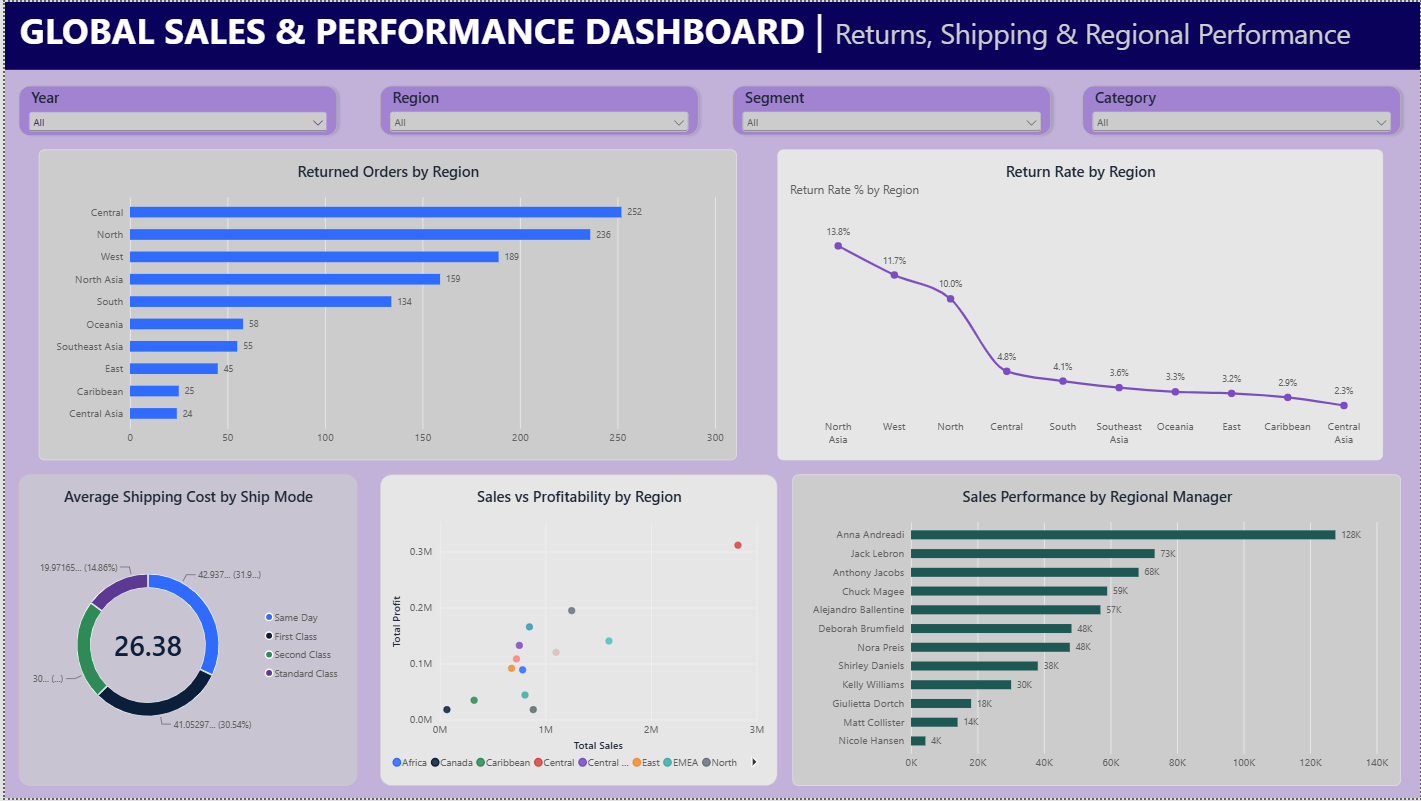

The dashboard page shown, as its layout file describes it:
{"tool":"powerbi","page":{"name":"Returns, Shipping & Regional Performance","canvas":[1920,1080],"ordinal":3},"visuals":[{"type":"textbox","box":[0,0,1920,92.4],"z":4000},{"type":"slicer","fields":{"Values":["DateTable.Year"]},"box":[18.5,113.2,432.2,67.9],"z":5000},{"type":"slicer","fields":{"Values":["Orders.Category"]},"box":[1462.2,113.9,432,67],"z":6000},{"type":"slicer","fields":{"Values":["Orders.Region"]},"box":[509.3,113.4,432,67],"z":7000},{"type":"slicer","fields":{"Values":["Orders.Segment"]},"box":[987.2,113.4,432,67],"z":8000},{"type":"scatterChart","title":"Sales vs Profitability by Region","fields":{"Series":["Orders.Region"],"X":["Measures (2).Total Sales"],"Y":["Measures (2).Total Profit"]},"box":[509.2,641.5,539.3,422.1],"z":9000},{"type":"lineChart","title":"Return Rate by Region","fields":{"Category":["Orders.Region"],"Y":["Measures (2).Return Rate %"]},"box":[1048.5,199.3,821.3,422],"z":10000},{"type":"donutChart","title":"Average Shipping Cost by Ship Mode","fields":{"Category":["Orders.Ship Mode"],"Y":["Measures (2).Average Shipping Cost"]},"box":[18.4,641.5,458.9,422.1],"z":11000},{"type":"clusteredBarChart","title":"Sales Performance by Regional Manager","fields":{"Category":["People.Person"],"Y":["Measures (2).Total Sales"]},"box":[1068.6,641.5,825.7,422.1],"z":12000},{"type":"clusteredBarChart","title":"Returned Orders by Region","fields":{"Category":["Orders.Region"],"Y":["Measures (2).Returned Orders"]},"box":[45.2,199.3,946.8,422],"z":13000}]}

Visuals, with their boxes in screenshot pixels (x1, y1, x2, y2), scaled from the page's 1920x1080 canvas onto the 1421x801 screenshot:
textbox: [left=0, top=0, right=1420, bottom=69]
slicer - DateTable.Year: [left=14, top=84, right=334, bottom=134]
slicer - Orders.Category: [left=1082, top=84, right=1402, bottom=134]
slicer - Orders.Region: [left=377, top=84, right=697, bottom=134]
slicer - Orders.Segment: [left=731, top=84, right=1050, bottom=134]
"Sales vs Profitability by Region" scatterChart: [left=377, top=476, right=776, bottom=789]
"Return Rate by Region" lineChart: [left=776, top=148, right=1384, bottom=461]
"Average Shipping Cost by Ship Mode" donutChart: [left=14, top=476, right=353, bottom=789]
"Sales Performance by Regional Manager" clusteredBarChart: [left=791, top=476, right=1402, bottom=789]
"Returned Orders by Region" clusteredBarChart: [left=33, top=148, right=734, bottom=461]
